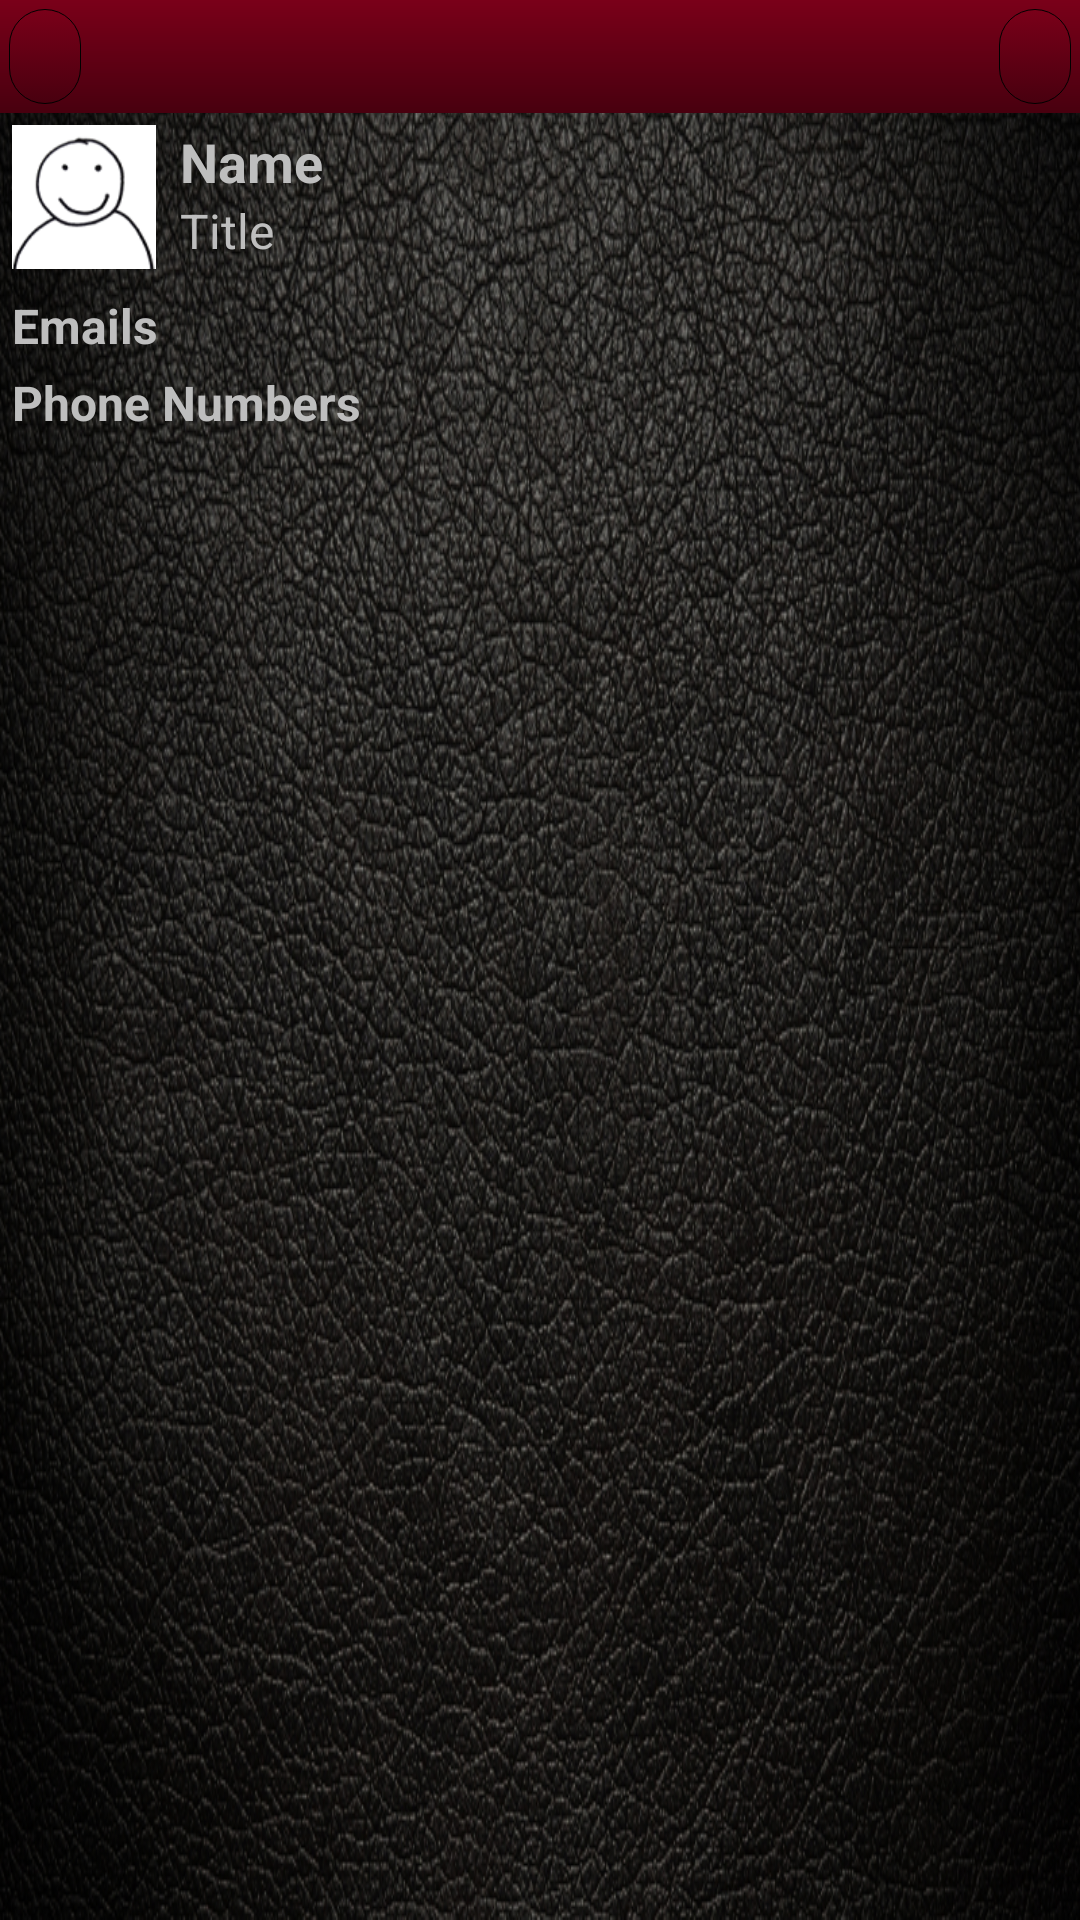

Screen size 1080 × 1920. Icon name, then its box in pixels as [x1=x1, y1=y1, x2=x2, y2=y2]:
Profile Image: [x1=12, y1=125, x2=156, y2=269]
